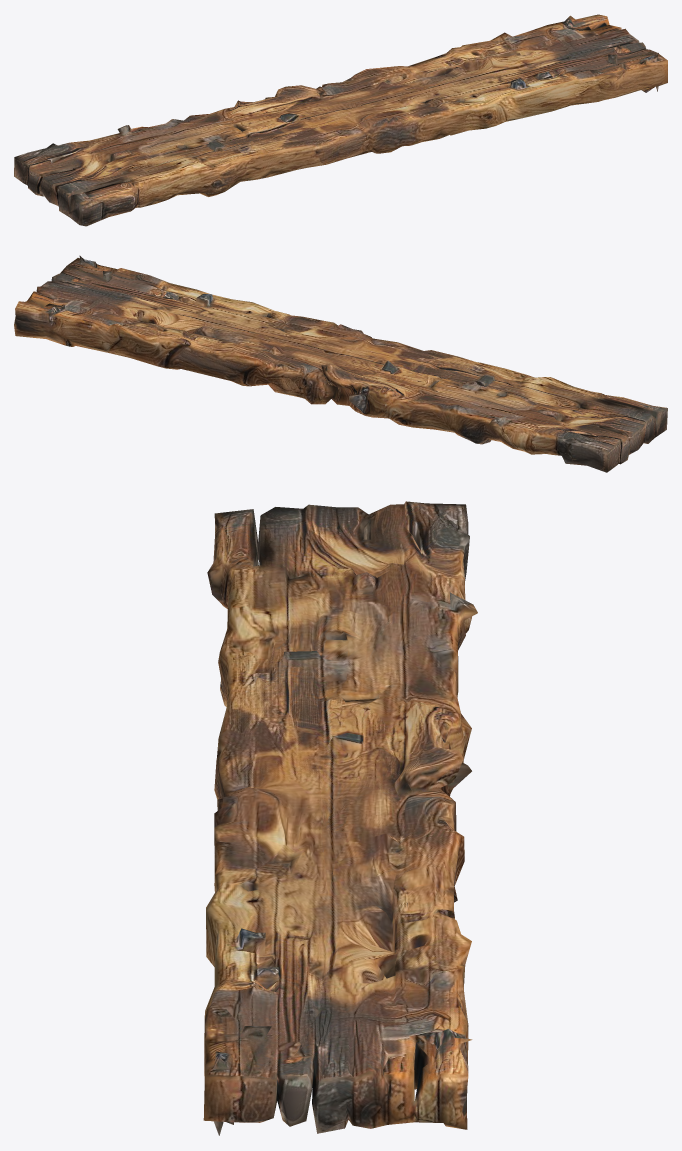
File: plank.glb
The picture shows the model from 3 angles, top to bottom: view 1: azimuth 30°, elevation 25°; view 2: azimuth 150°, elevation 25°; view 3: azimuth 270°, elevation 25°; orthographic projection. The views are drawn at different scales.
Visible parts, largest first — view 1: tripo_node_ff22073e-df0f-4790-8206-c557e137a8af; view 2: tripo_node_ff22073e-df0f-4790-8206-c557e137a8af; view 3: tripo_node_ff22073e-df0f-4790-8206-c557e137a8af.
Part boxes in pixels (box(x1,y1,x2,y2)): tripo_node_ff22073e-df0f-4790-8206-c557e137a8af: box(14, 14, 667, 226); tripo_node_ff22073e-df0f-4790-8206-c557e137a8af: box(14, 255, 667, 472); tripo_node_ff22073e-df0f-4790-8206-c557e137a8af: box(203, 501, 477, 1135).
Size of the model in its own units: 0.7787 by 0.05 by 0.1569.
1 material, 1 textured.
